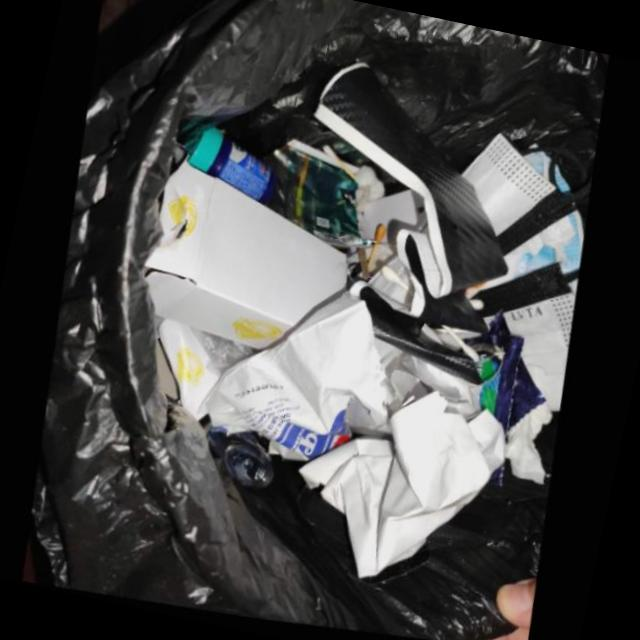carton: (141, 163, 347, 353), (156, 323, 259, 417)
giay: (298, 396, 507, 585), (218, 307, 393, 439), (267, 151, 368, 249), (506, 406, 553, 493)
hop_nhua: (186, 125, 281, 210)
khau_trang: (445, 123, 591, 266), (468, 217, 584, 305), (462, 138, 555, 238), (505, 300, 571, 418)
